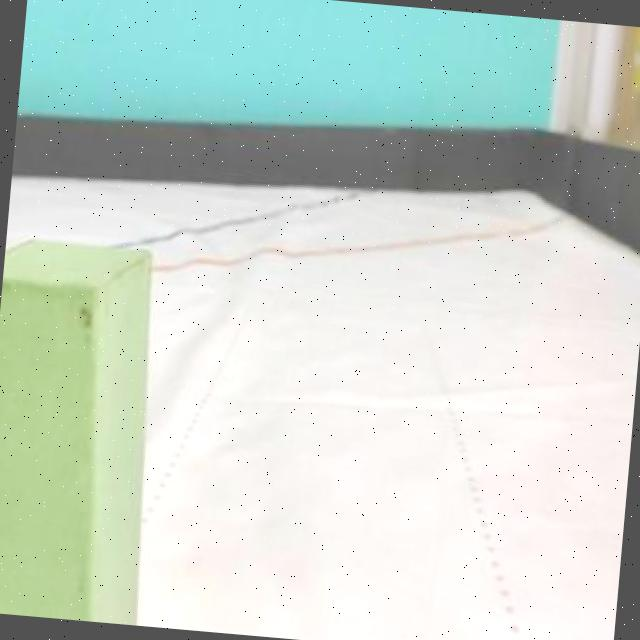greenbox: (0, 231, 179, 626)
